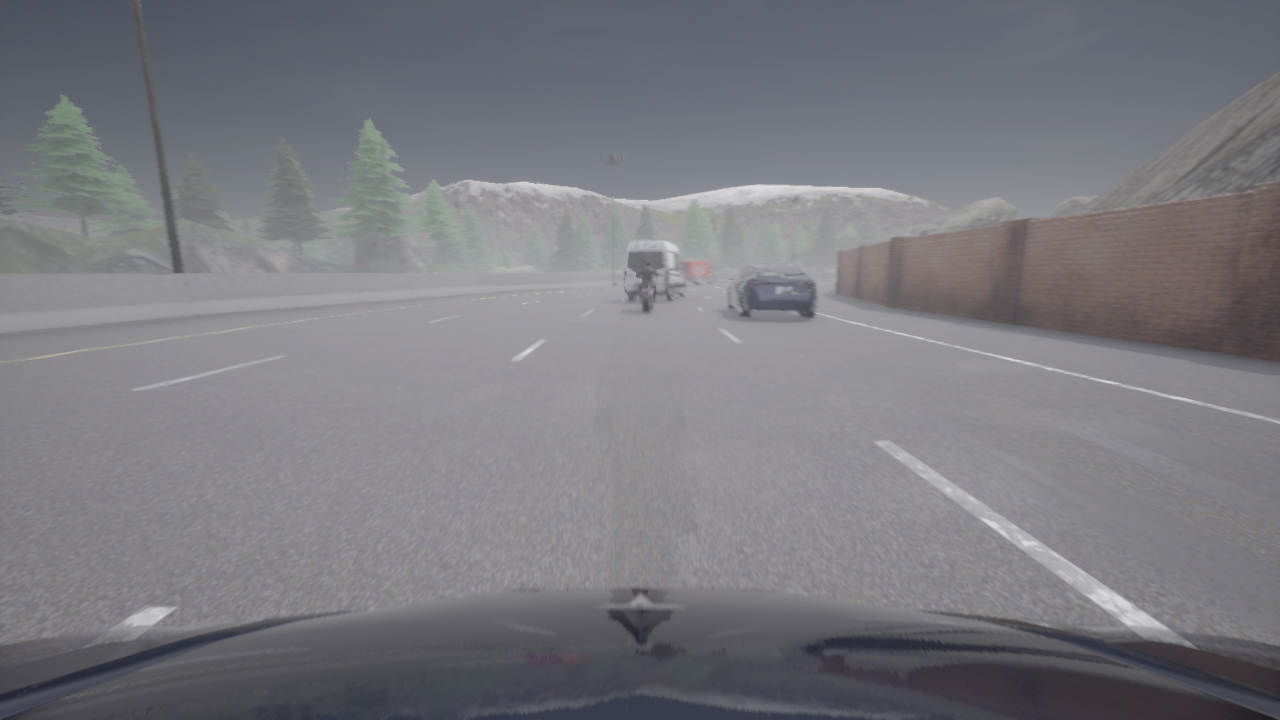cyclist: (0, 588, 1279, 719), (727, 263, 816, 317), (623, 240, 687, 301), (682, 260, 716, 285), (640, 275, 657, 312)
